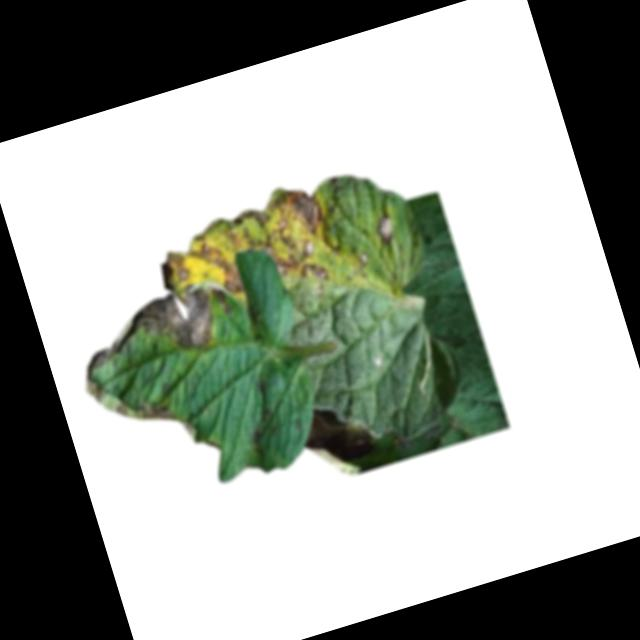Early_blight: (154, 176, 340, 323), (77, 275, 240, 380), (81, 355, 199, 470), (299, 394, 383, 486), (372, 216, 398, 249)
